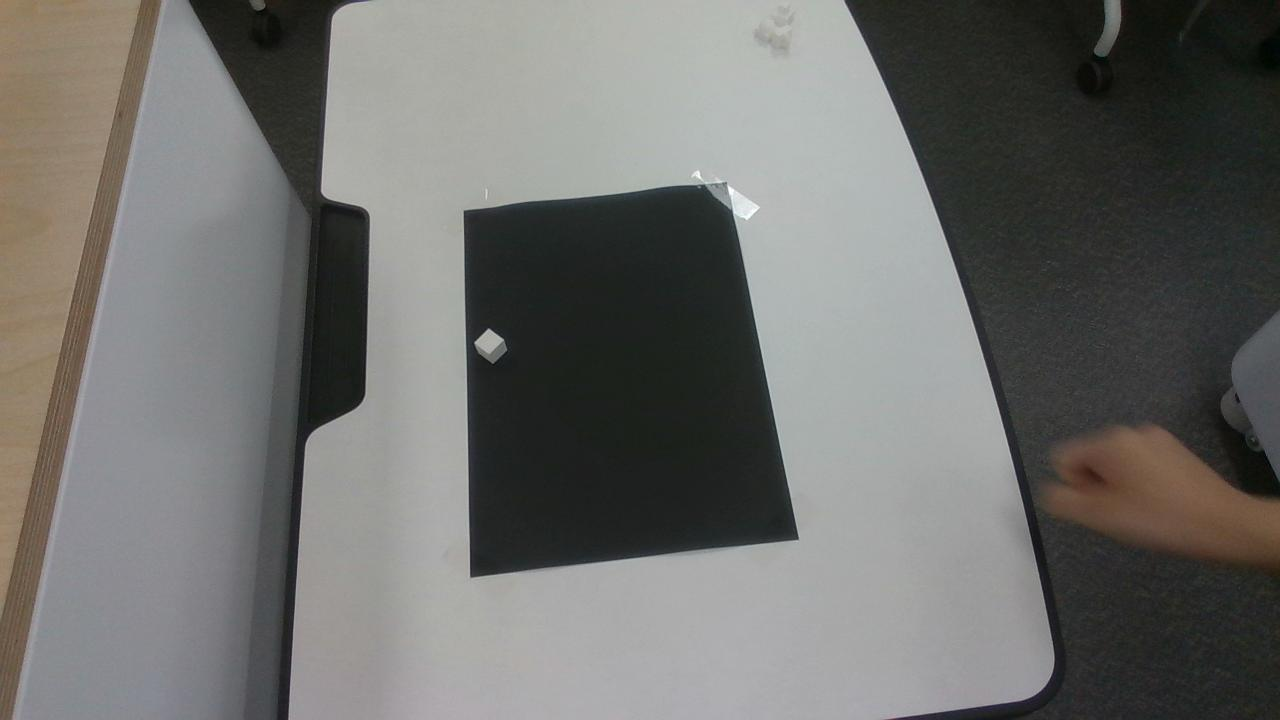cube: (474, 329, 506, 363)
